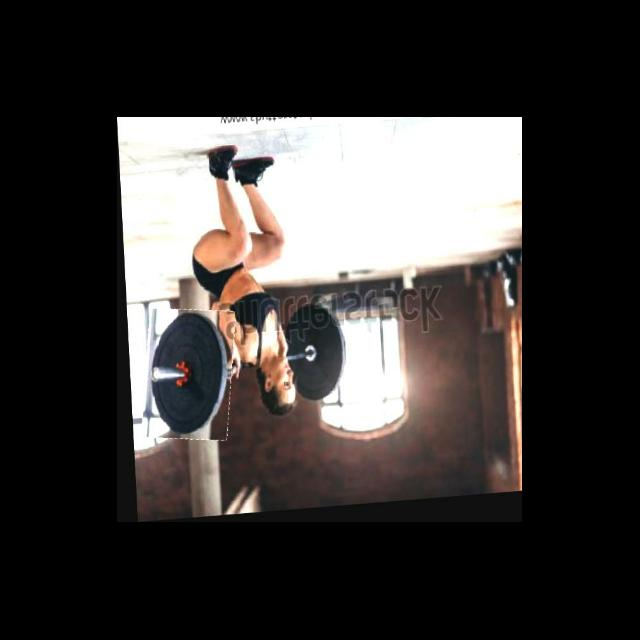barbell: (137, 306, 235, 445)
